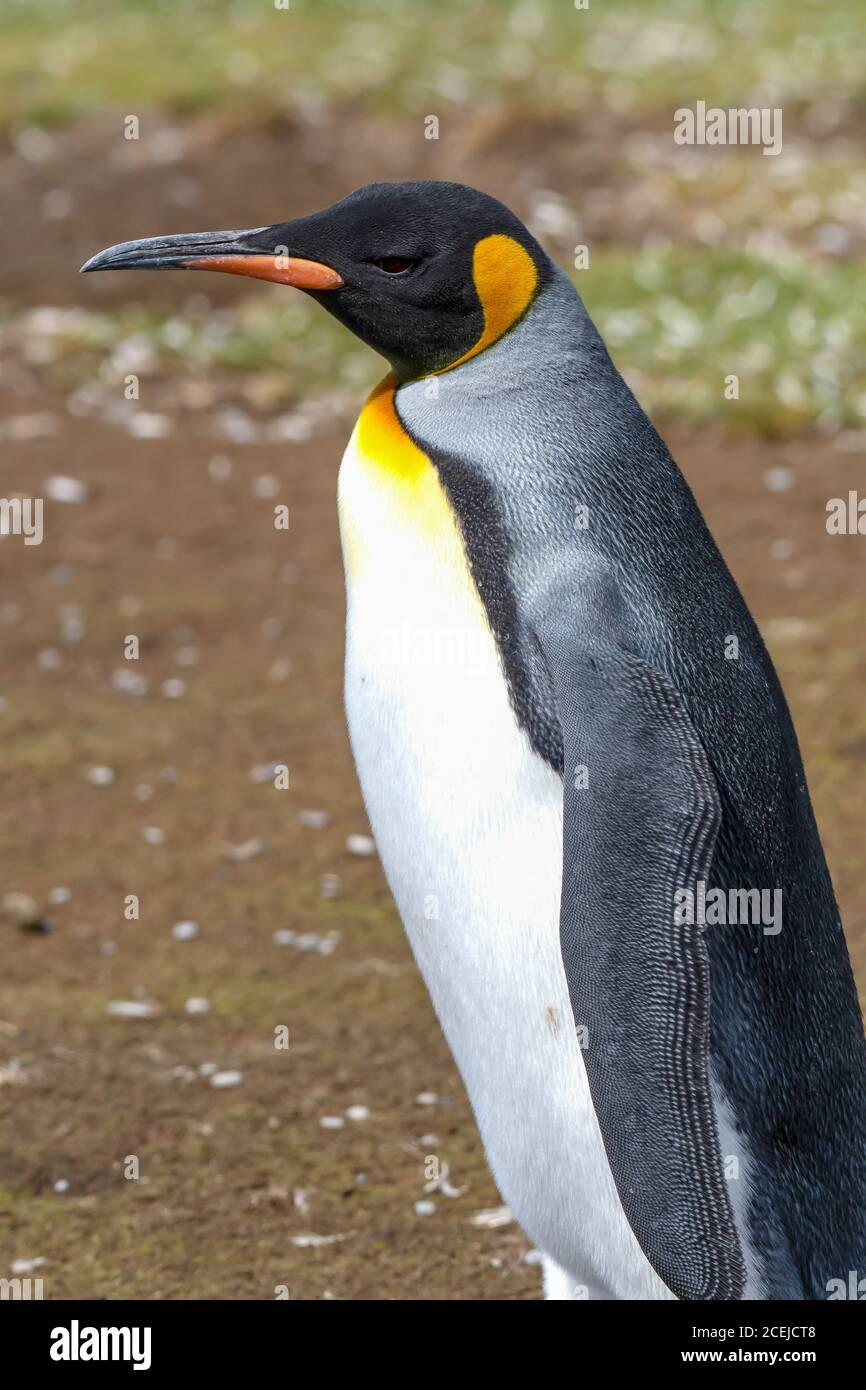king: (51, 143, 866, 1321)
